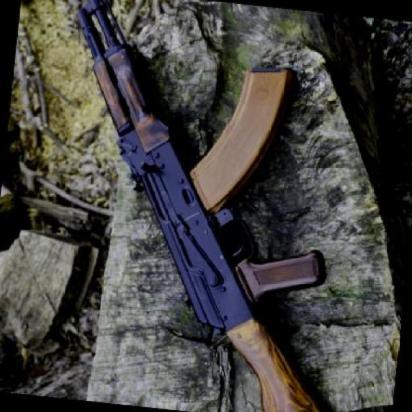Gun: (2, 2, 400, 412)
